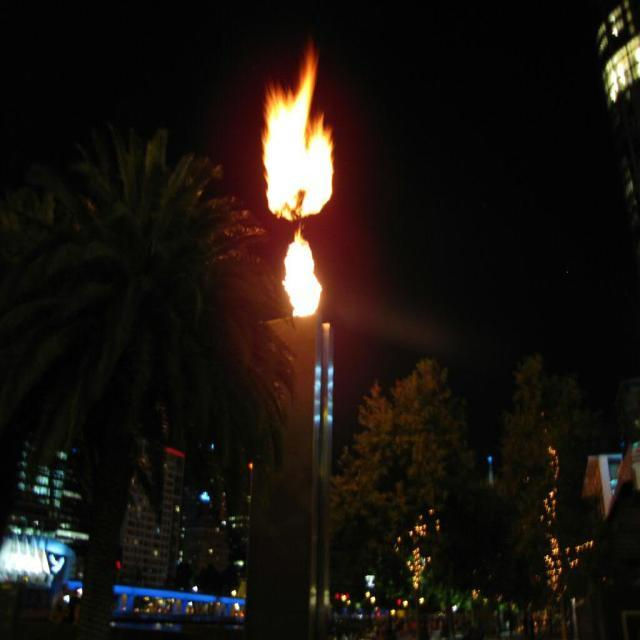Fire: (272, 103, 322, 205), (286, 242, 319, 308)
